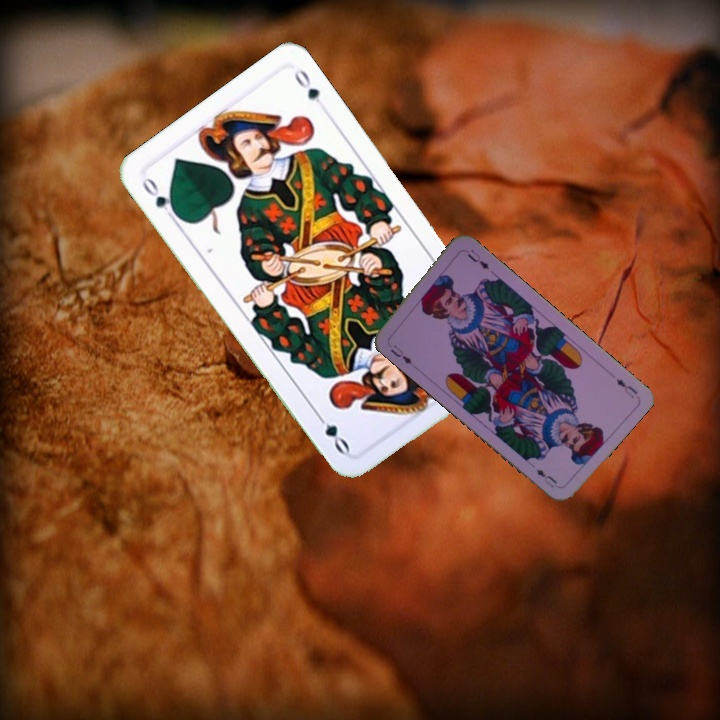EU: (612, 374, 640, 401), (386, 341, 415, 367)
GO: (138, 173, 182, 225)
